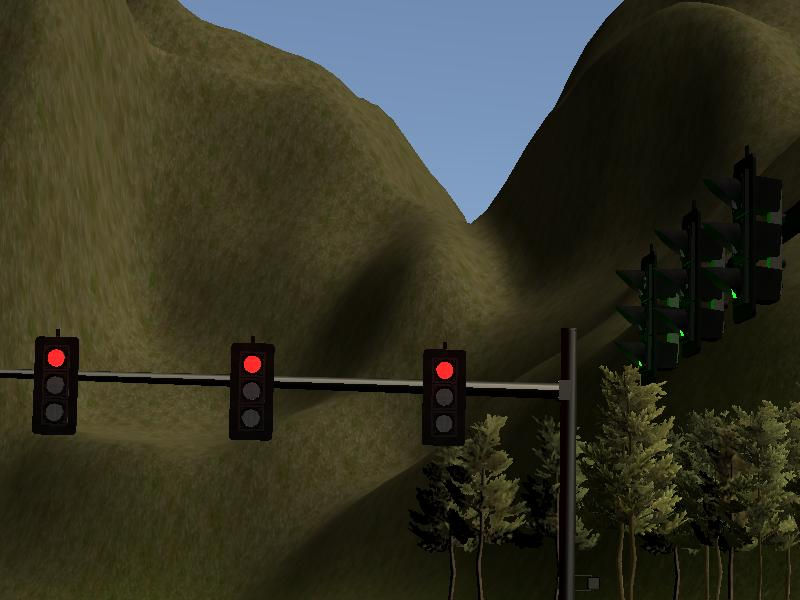red: (34, 334, 78, 433), (423, 347, 466, 447), (229, 342, 272, 440)
